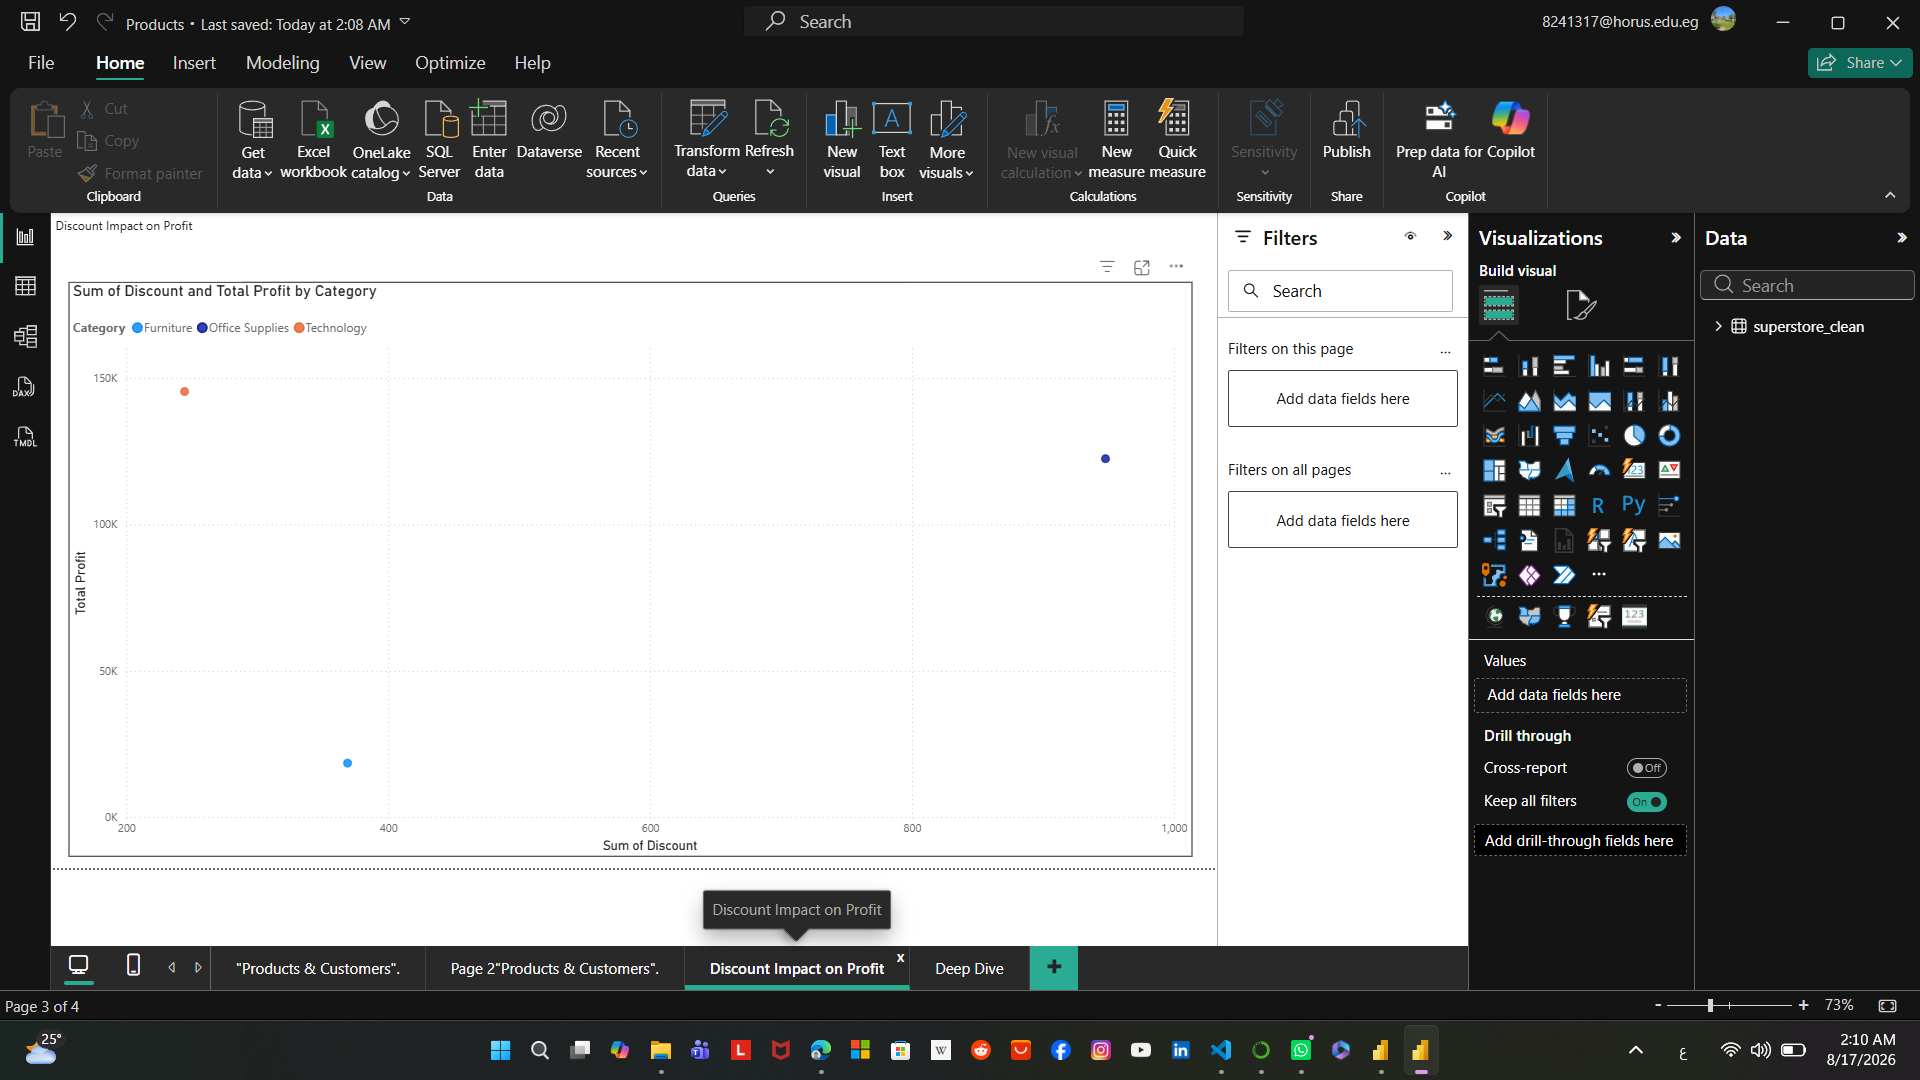

The dashboard page shown, as its layout file describes it:
{"tool":"powerbi","page":{"name":"Discount Impact on Profit","canvas":[1280,720],"ordinal":2},"visuals":[{"type":"scatterChart","fields":{"Series":["superstore_clean.Category"],"X":["Sum(superstore_clean.Discount)"],"Y":["superstore_clean.Total Profit"]},"box":[19.2,75.5,1233.6,631.2],"z":0},{"type":"textbox","box":[0,0,209.9,75.5],"z":1}]}

Visuals, with their boxes on the page's 1280x720 design canvas (x1, y1, x2, y2). These are canvas units, not pixel positions in the 1920x1080 screenshot, which may show the page scaled, cropped or inside an application window:
scatterChart - superstore_clean.Category x Sum(superstore_clean.Discount): [19,76,1253,707]
textbox: [0,0,210,76]
